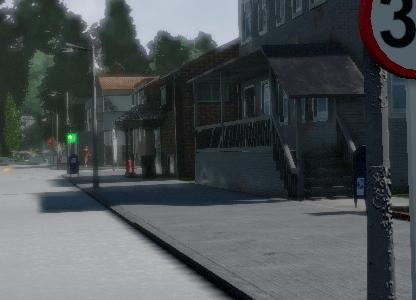Speed_60: (374, 47, 416, 120)
